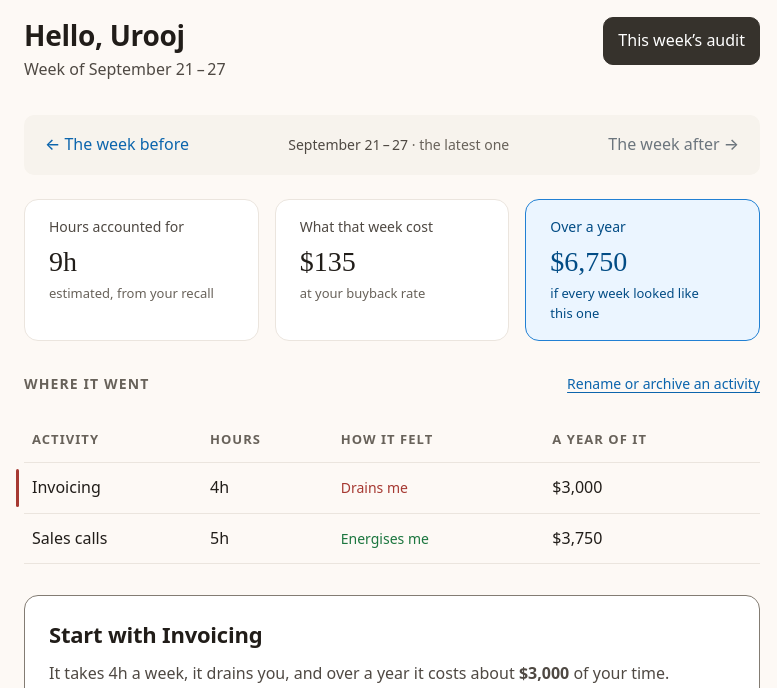
Test: the week on screen › asks the server for the week it was told to show
The width and height of the screenshot is (777, 688).
Expected: the heading "Hello, Urooj" is shown, [24,16,185,54]
Click the button "← The week before".
click(117, 145)  # box [36,123,198,167]
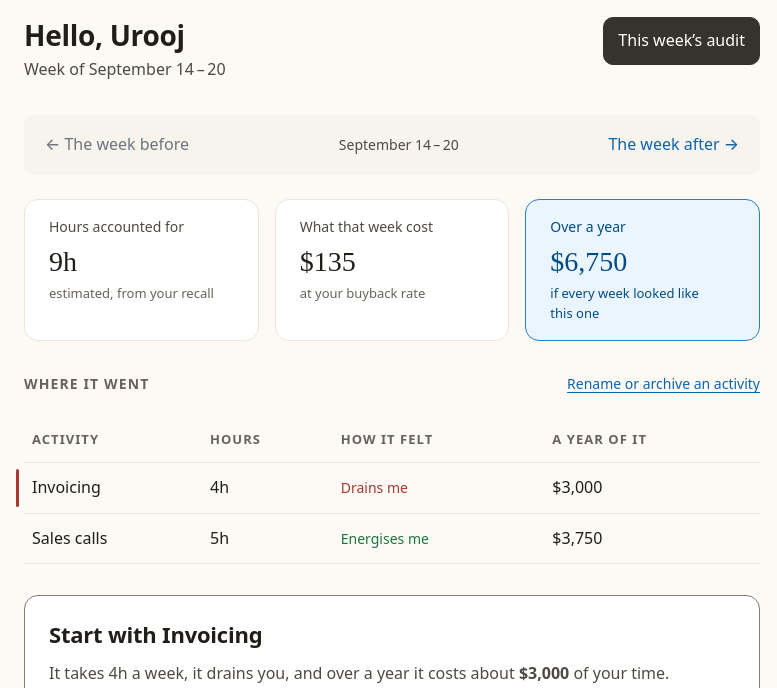
Expected: the button "The week after →" is enabled, [599,123,748,167]
